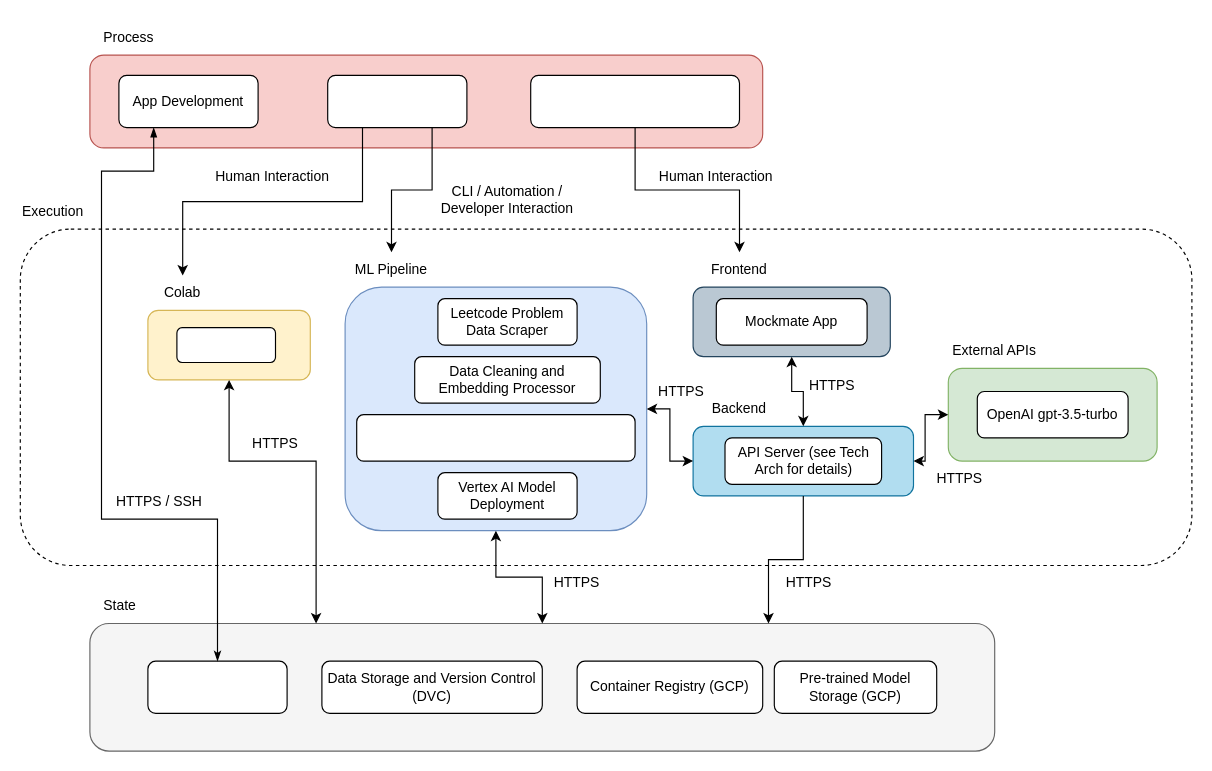
This 1212x771 diagram has some shape labels left out. Here are the shapes that lost their labels. From the top down, the centre of each, then its label:
At [397,101]: "ML Tasks".
At [635,101]: "Respond to user text queries, view submission results".
At [226,344]: "Notebooks".
At [495,437]: "Model Training, Fine-tuning, Quantization, and Evaluation".
At [217,686]: "Source Control (Git)".
